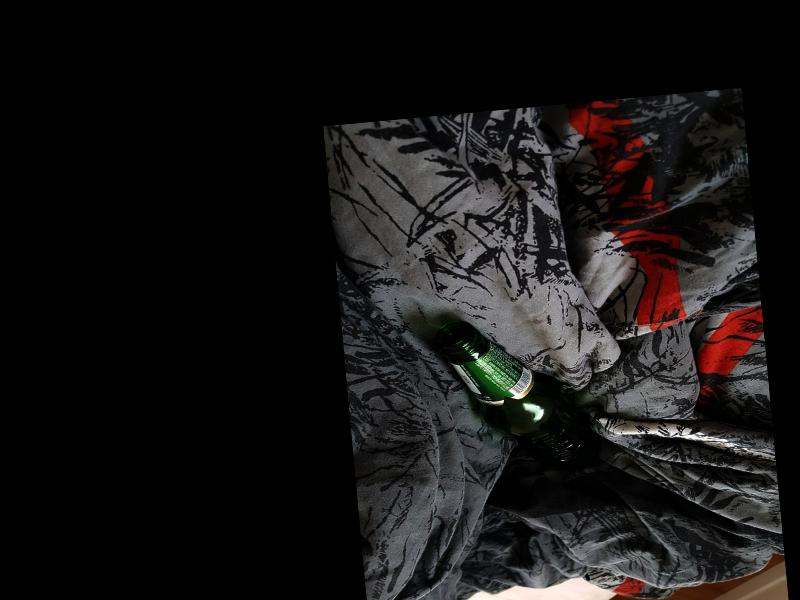Beer: (435, 308, 602, 481)
